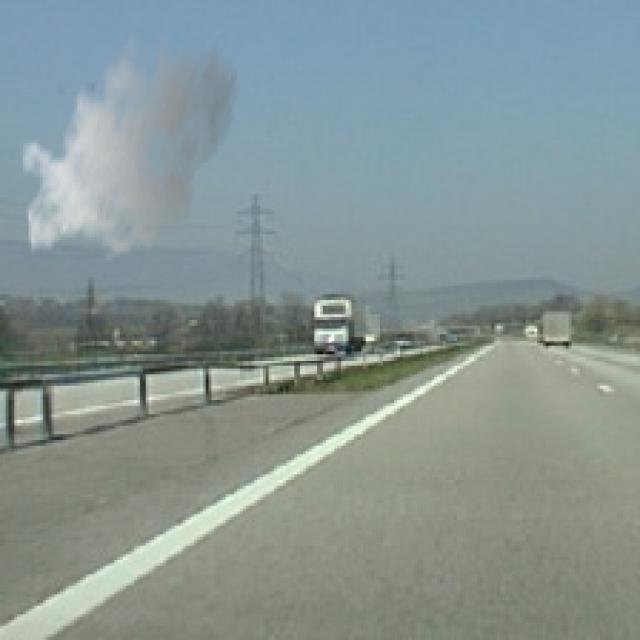smoke: (20, 20, 240, 266)
